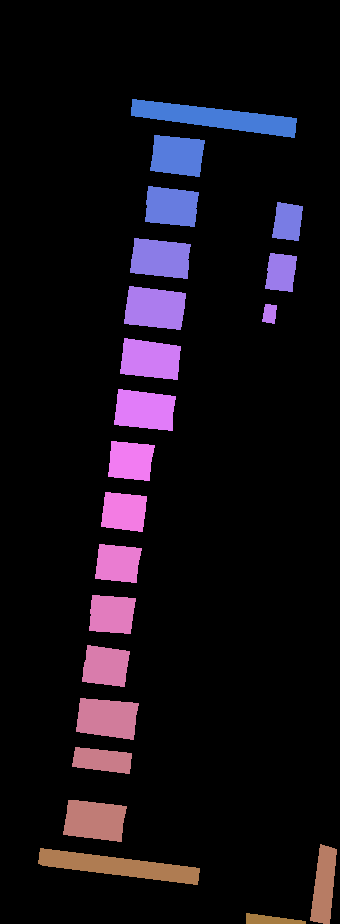parkingspot: (131, 99, 296, 137), (38, 848, 199, 884), (310, 844, 336, 924), (126, 286, 185, 313), (116, 389, 175, 415), (72, 747, 131, 773), (122, 338, 180, 364), (66, 800, 126, 825), (76, 714, 135, 739), (63, 816, 122, 841), (78, 698, 138, 722), (124, 305, 183, 329), (130, 254, 188, 278), (120, 356, 178, 379), (114, 407, 172, 430), (133, 238, 190, 261), (146, 186, 198, 210), (153, 135, 204, 159), (150, 152, 201, 176), (145, 203, 196, 226), (85, 645, 129, 669), (82, 662, 126, 686), (103, 492, 146, 516), (110, 441, 154, 464), (97, 544, 141, 567), (90, 595, 135, 617), (101, 508, 144, 531), (89, 611, 132, 633), (108, 458, 150, 480), (95, 561, 137, 582), (246, 913, 305, 924), (272, 218, 300, 240), (265, 269, 293, 291), (267, 253, 296, 274), (275, 202, 302, 224), (262, 304, 276, 323)
